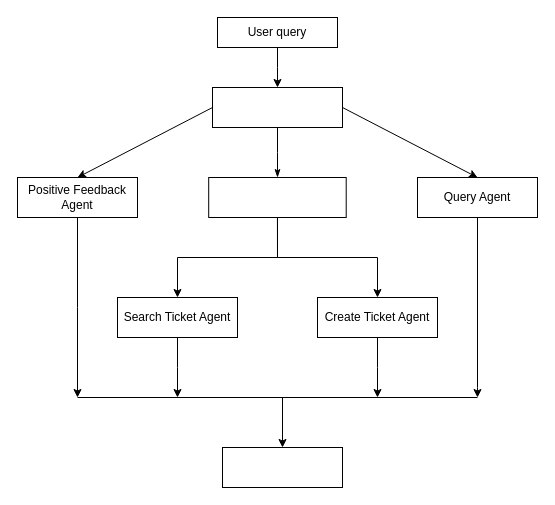
Image size: 555x505. Some labels were removed from this diagram. Here are the shapes that lost their labels. From the top down, the centre of each, then its label:
At point 277,107: "Intent Classifier Agent".
At point 277,197: "Ticket Agent".
At point 282,467: "Final Response".
